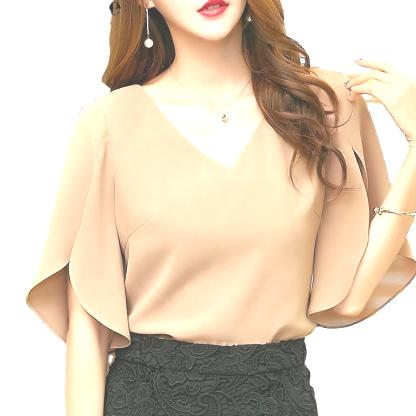dress: (27, 66, 416, 353)
